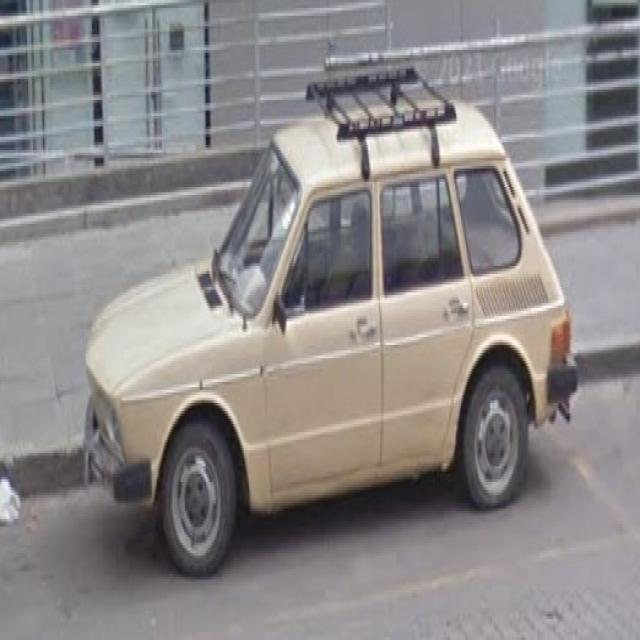car: (32, 61, 586, 576)
